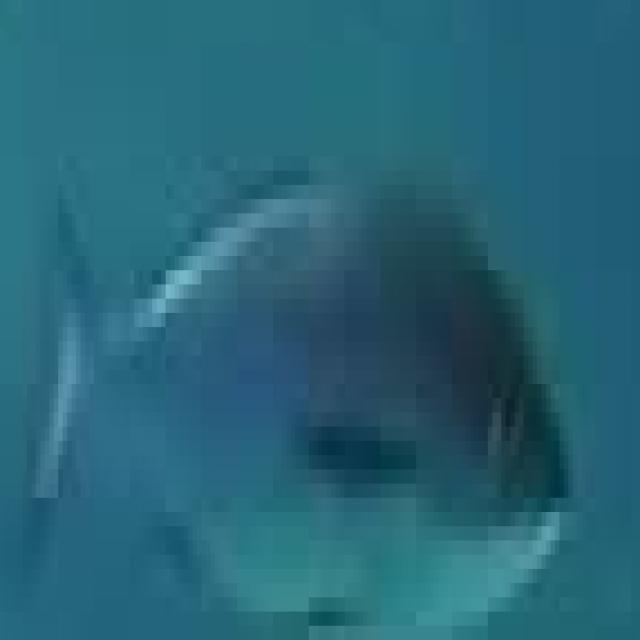fish: (0, 14, 636, 640)
